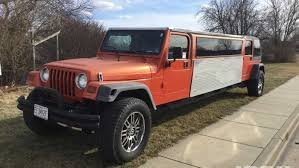mobil: (27, 23, 268, 166)
